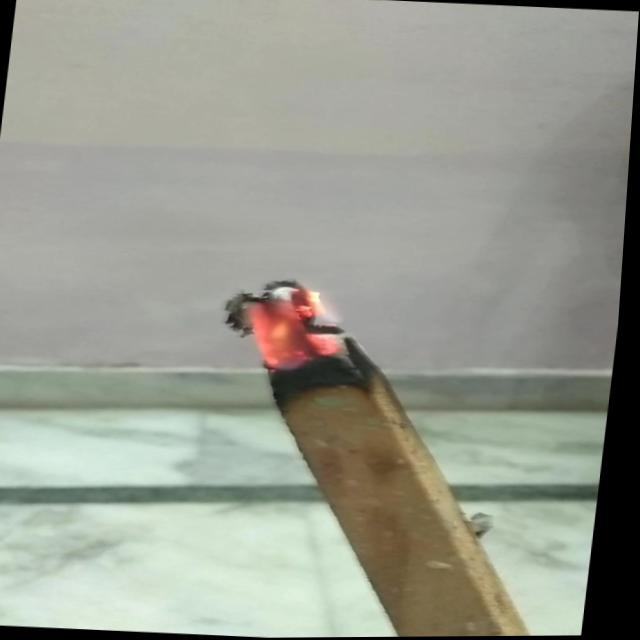fire: (234, 271, 355, 380)
